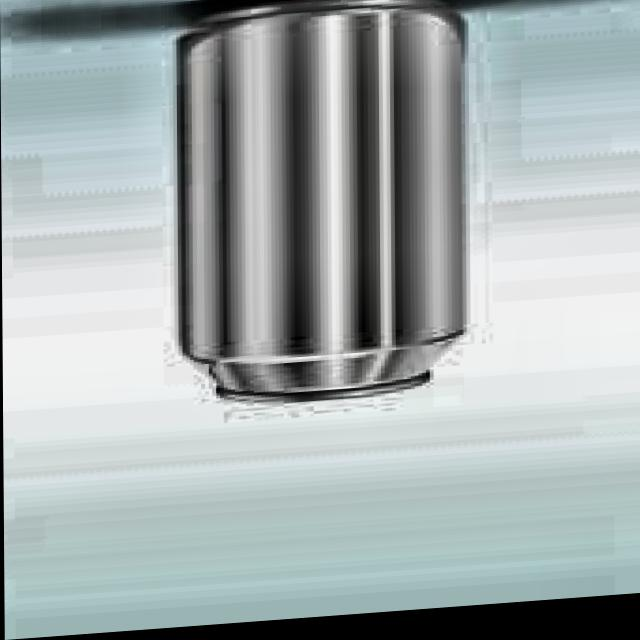can: (162, 0, 473, 424)
